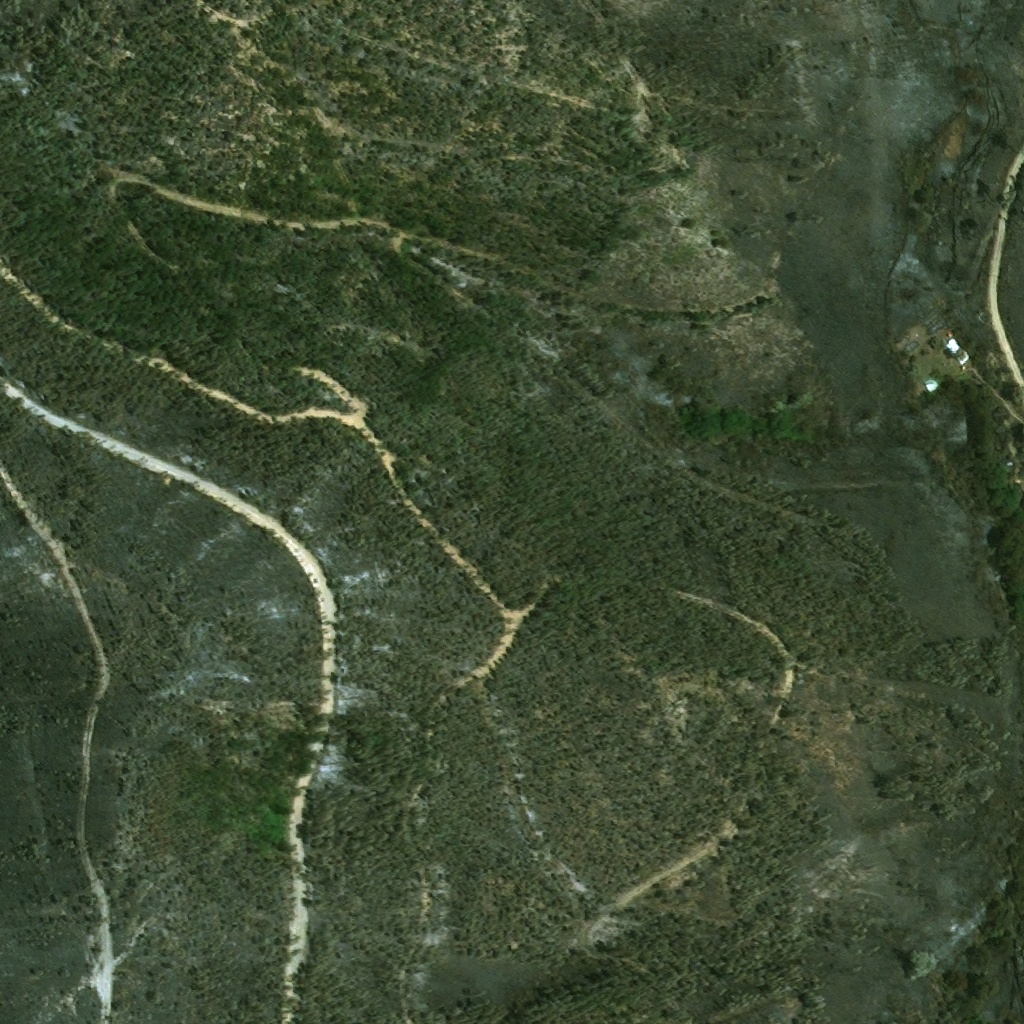2 major-damage: (945, 338, 973, 371), (922, 372, 940, 392)
